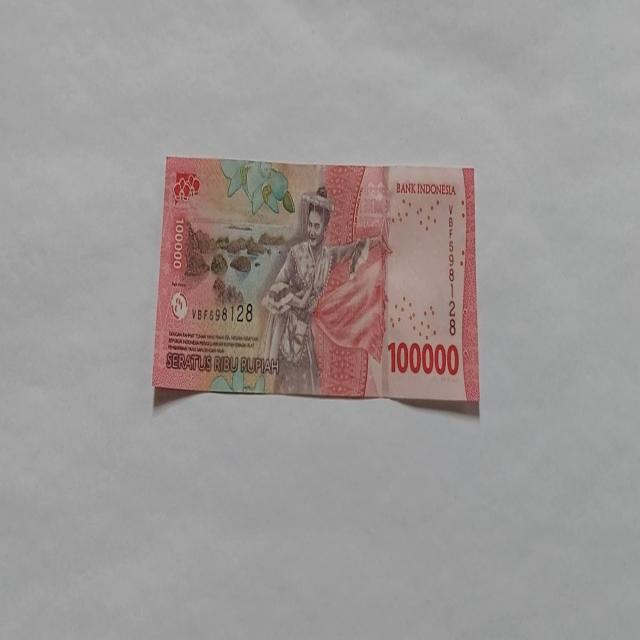seratus ribu rupiah: (152, 155, 480, 409), (256, 186, 390, 396)
